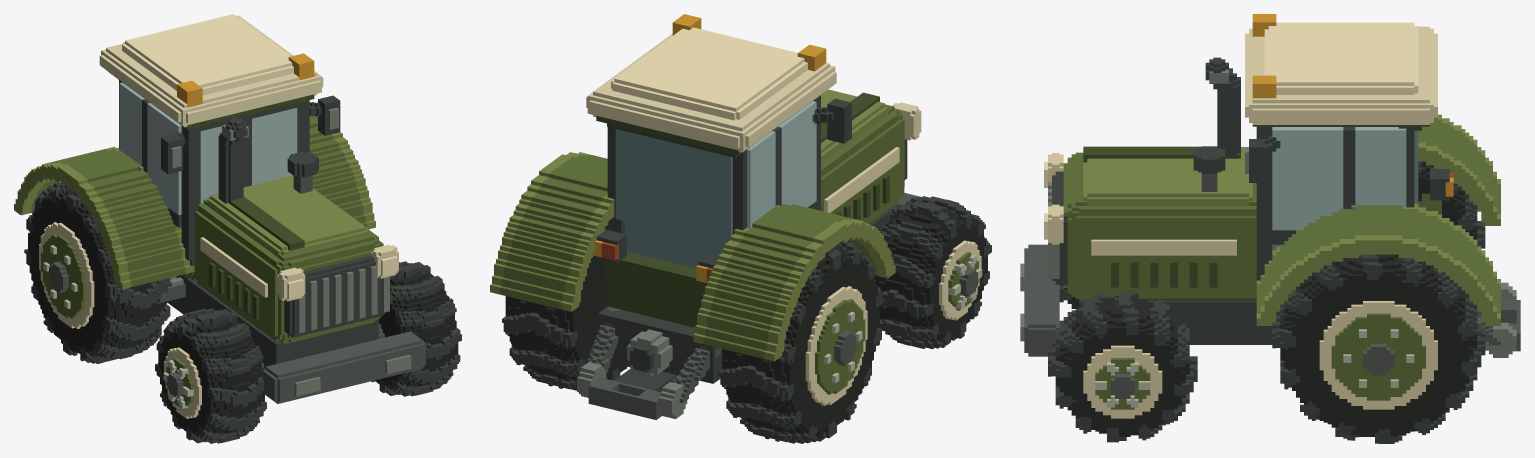
File: tractor.glb
3 views of the same model, side by side, from view 1: azimuth 30°, elevation 25°; view 2: azimuth 150°, elevation 25°; view 3: azimuth 270°, elevation 25° (orthographic). The views are drawn at different scales.
Visible parts, largest first — view 1: tractor; view 2: tractor; view 3: tractor.
Part boxes in pixels (left/top/right/bottom): tractor: left=14, top=14, right=461, bottom=443; tractor: left=490, top=14, right=991, bottom=443; tractor: left=1020, top=14, right=1520, bottom=443.
Bounding box in the file's own units: 3.68 × 3.72 × 5.08.
